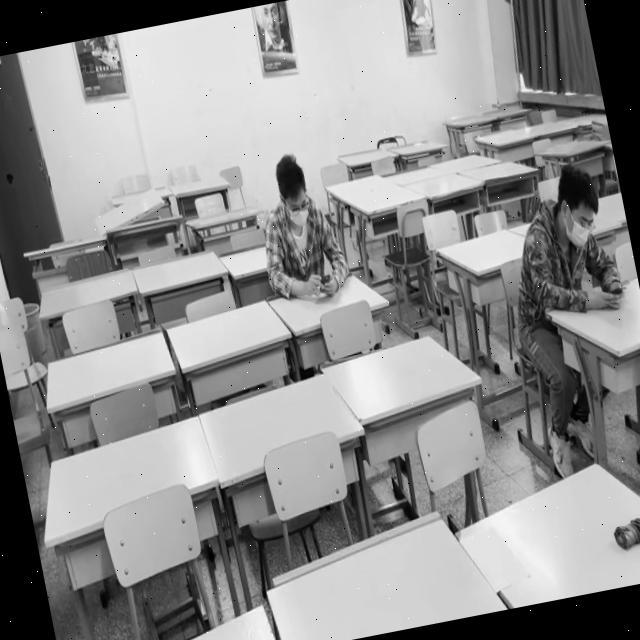phone: (522, 164, 627, 319), (252, 149, 348, 300)
